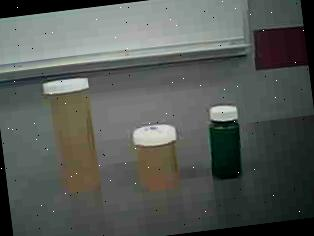Bottle A: (36, 65, 115, 203)
Bottle B: (128, 117, 186, 195)
Bottle C: (198, 99, 254, 189)
